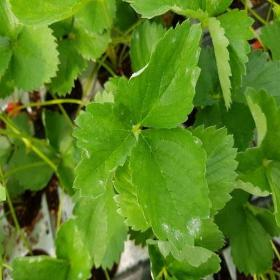Powdery Mildew Leaf: (127, 126, 213, 252), (112, 17, 203, 130), (70, 101, 136, 199)
